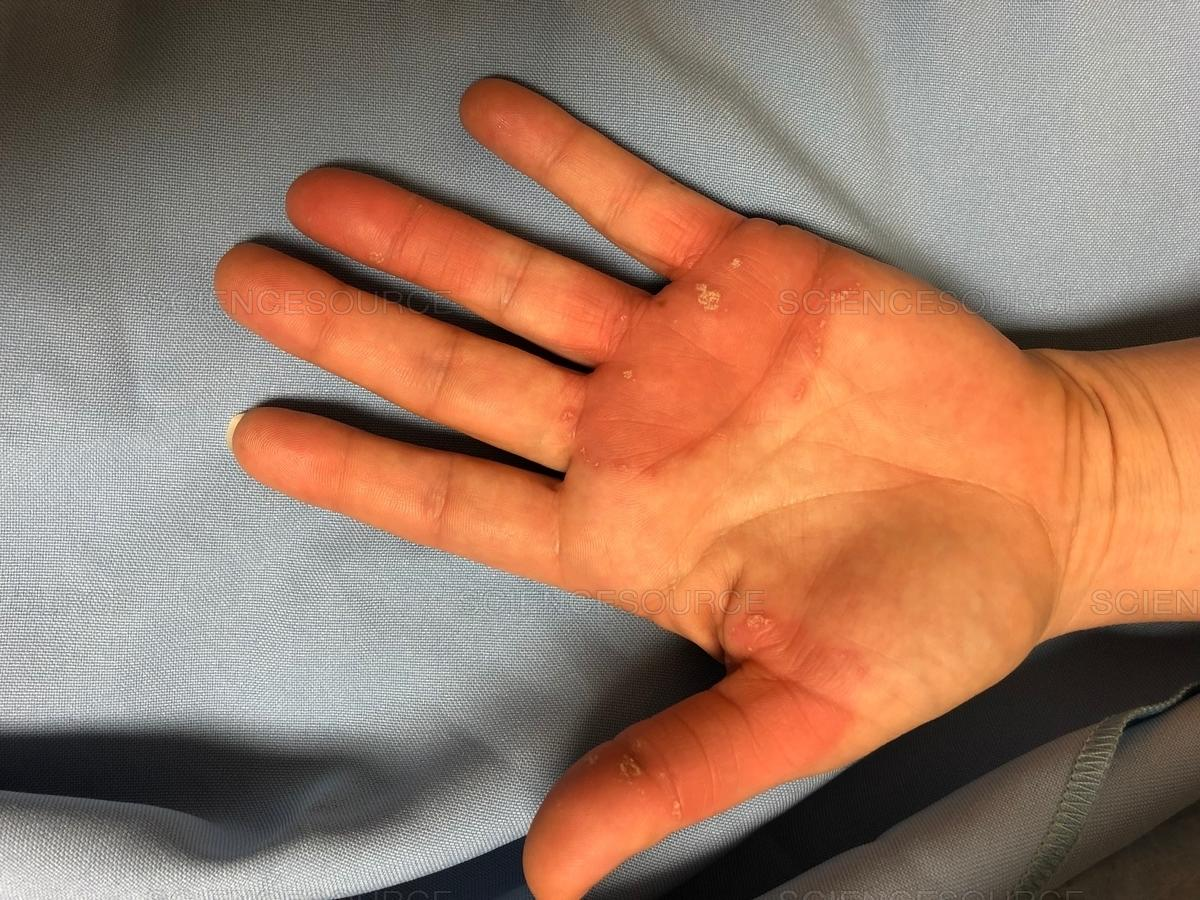Diseased: (453, 105, 970, 783)
